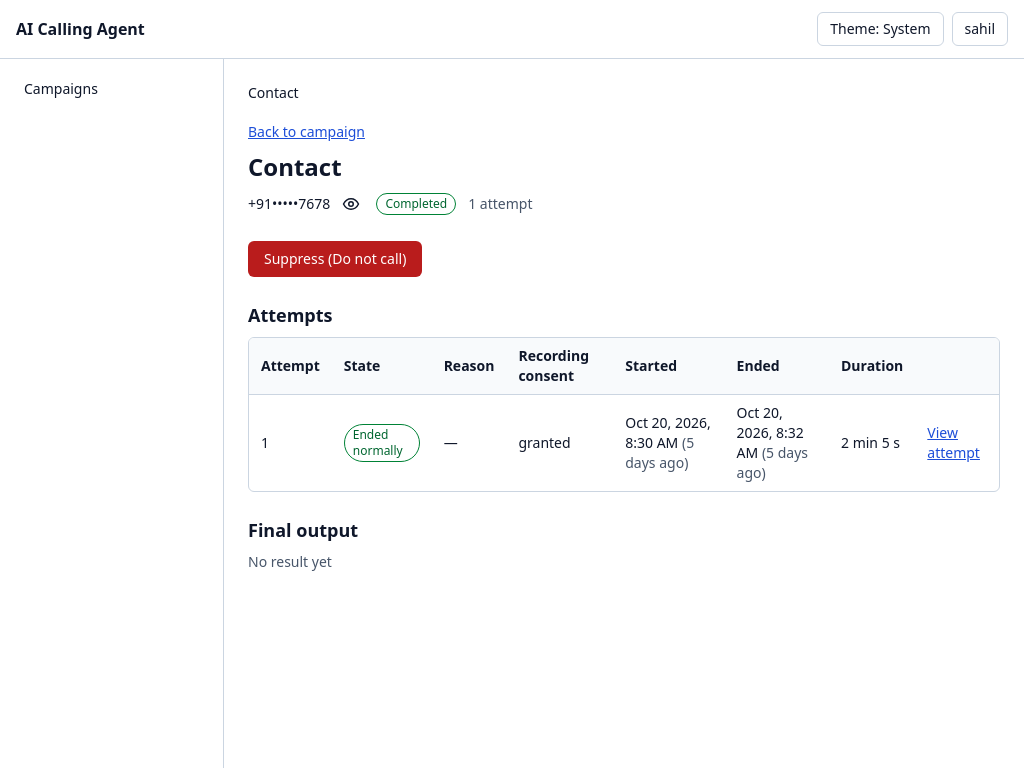
Test: header and attempts › masked phone with reveal, status, attempt count, back link; no axe violations
expect the heading "Contact" is shown: met, box [248,150,342,183]
expect the text with test id "phone" reads "+91•••••7678": met, box [248,194,330,213]
Step 1. Click the button named "Reveal phone number" → (351, 204), box [338,191,364,217]
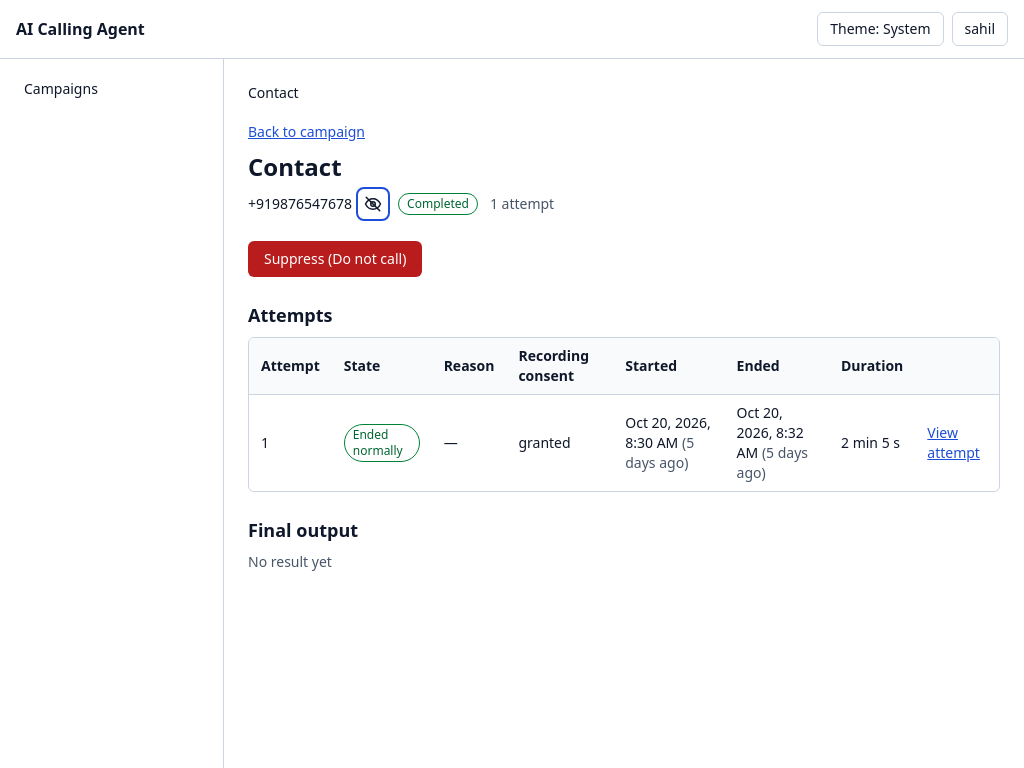
expect the text with test id "phone" reads "+919876547678": met, box [248,194,352,213]
